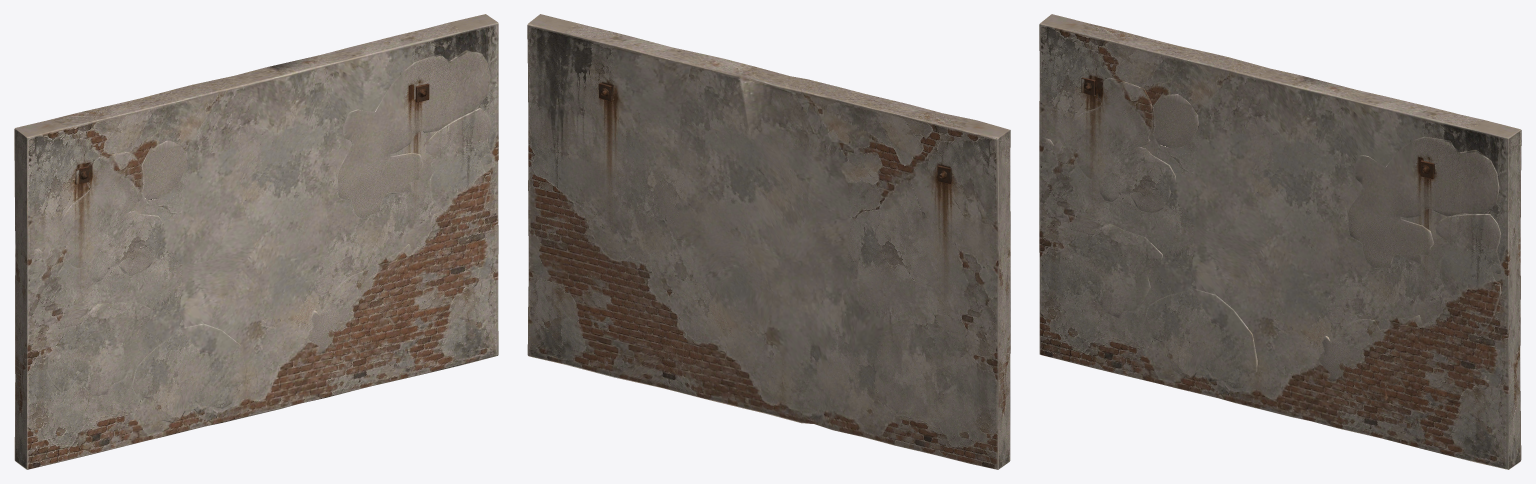
File: upperwall.glb
3 views of the same model, side by side, from view 1: azimuth 30°, elevation 25°; view 2: azimuth 150°, elevation 25°; view 3: azimuth 330°, elevation 25° (orthographic).
Parts seen in each view (by area): view 1: upperwall; view 2: upperwall; view 3: upperwall.
Boxes of the visible parts, x1,y1,x2,y2 form: upperwall: [14, 14, 498, 469]; upperwall: [527, 14, 1010, 469]; upperwall: [1039, 14, 1521, 469].
Bounding box in the file's own units: 1 × 0.6794 × 0.0819.
1 material, 1 textured.
